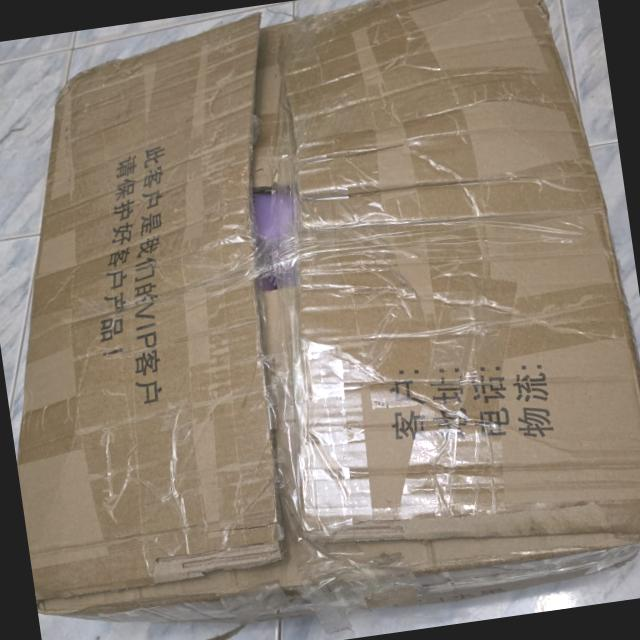carton_box: (0, 0, 640, 640)
package_damage: (174, 0, 385, 585), (31, 471, 640, 640)
